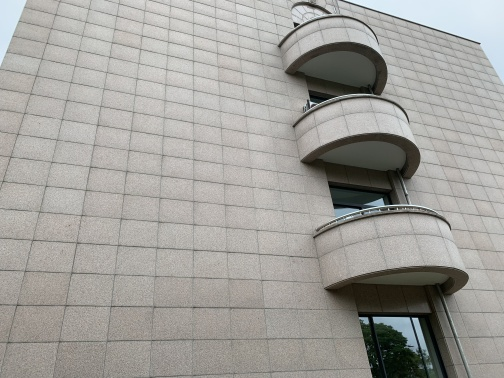Natural Science2: (165, 5, 475, 365)
